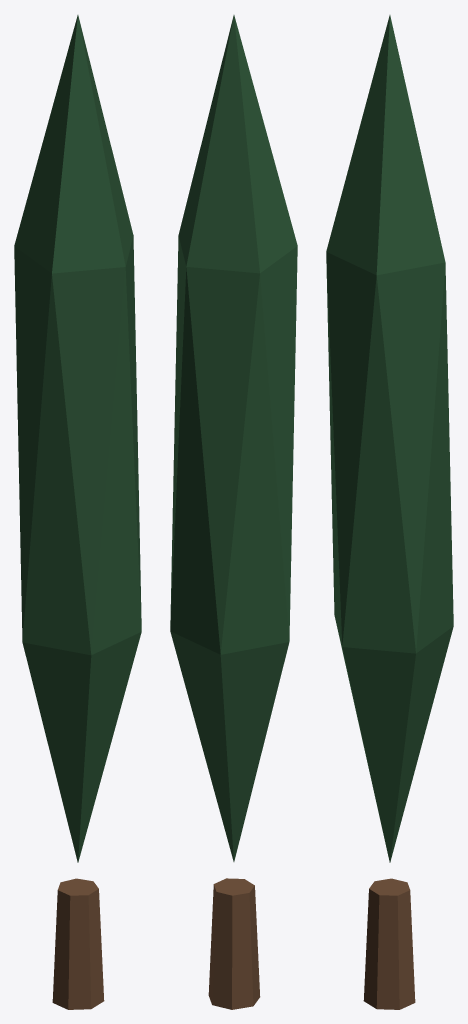
The model's file is VG_Tree_Cypress.fbx.
The picture shows the model from 3 angles, left to right: view 1: azimuth 30°, elevation 25°; view 2: azimuth 150°, elevation 25°; view 3: azimuth 330°, elevation 25°; orthographic projection.
Visible parts, largest first — view 1: VG_Tree_Cypress_Mesh; view 2: VG_Tree_Cypress_Mesh; view 3: VG_Tree_Cypress_Mesh.
Part boxes in pixels (x1,y1,x2,y2): VG_Tree_Cypress_Mesh: [14, 15, 141, 1009]; VG_Tree_Cypress_Mesh: [170, 15, 297, 1009]; VG_Tree_Cypress_Mesh: [326, 15, 453, 1009].
Bounding box in the file's own units: 0.7256 × 6.15 × 0.69.
